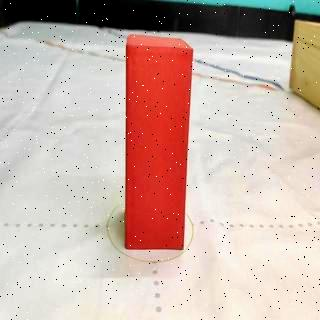redbox: (125, 32, 193, 251)
